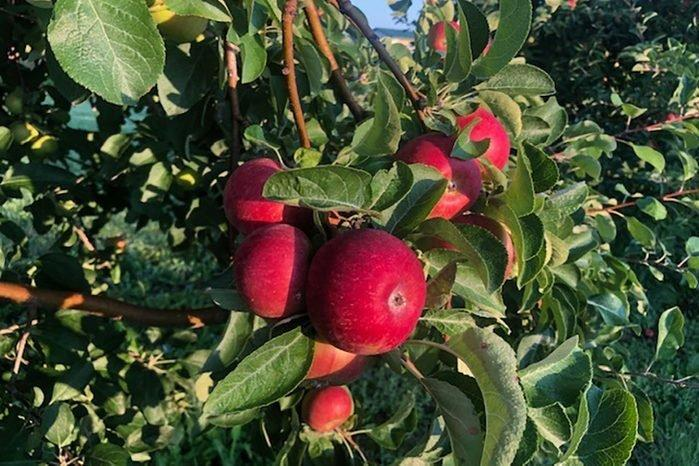apple: (302, 227, 425, 355), (402, 131, 479, 220), (238, 225, 307, 317), (226, 158, 299, 234), (307, 384, 352, 433)
